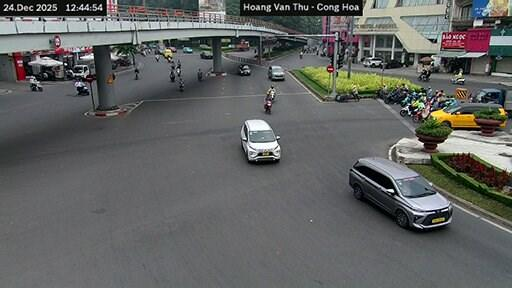motorbike: (412, 103, 429, 121), (384, 89, 405, 103), (339, 93, 358, 100), (29, 80, 41, 90), (76, 85, 89, 94), (451, 76, 464, 84), (263, 99, 271, 112), (419, 73, 428, 81), (269, 90, 275, 100), (169, 72, 175, 81), (197, 72, 201, 80), (176, 67, 179, 76), (179, 81, 182, 90)
